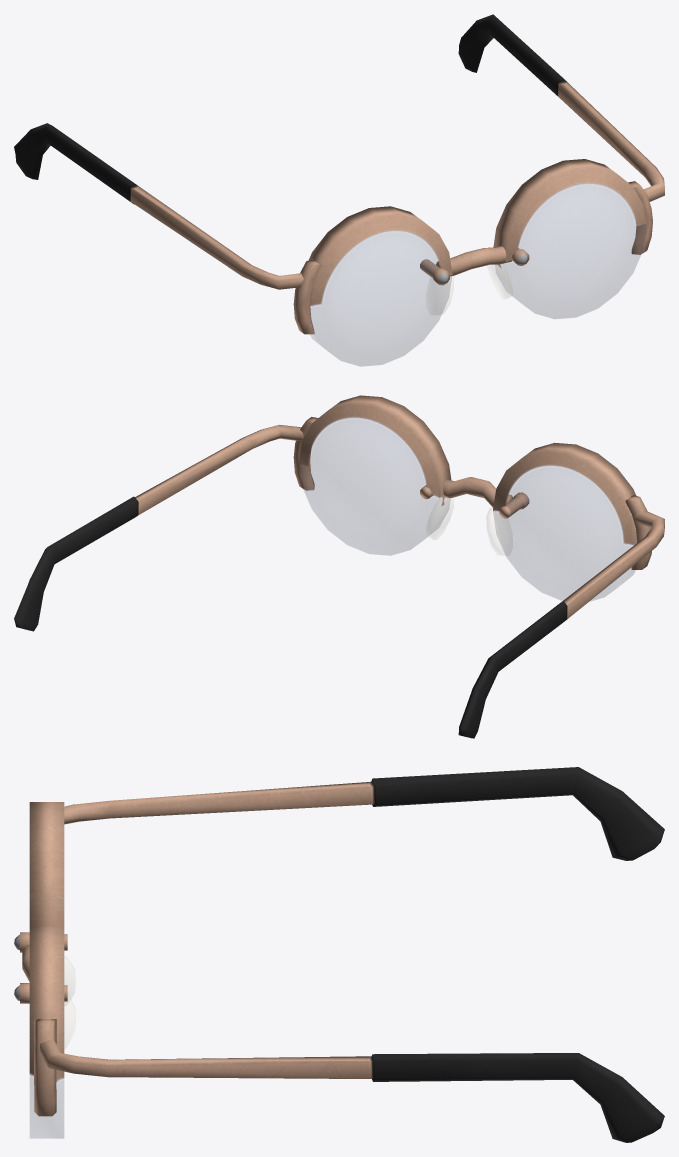
The picture shows the model from 3 angles, top to bottom: view 1: azimuth 30°, elevation 25°; view 2: azimuth 150°, elevation 25°; view 3: azimuth 270°, elevation 25°; orthographic projection. The views are drawn at different scales.
Parts seen in each view (by area): view 1: Wolf3D_Glasses; view 2: Wolf3D_Glasses; view 3: Wolf3D_Glasses.
Part boxes in pixels (x1,y1,x2,y2): Wolf3D_Glasses: (14, 14, 664, 366); Wolf3D_Glasses: (14, 395, 664, 738); Wolf3D_Glasses: (14, 767, 664, 1142).
Size of the model in its own units: 0.1647 by 0.0513 by 0.1562.
1 material, 1 textured.
